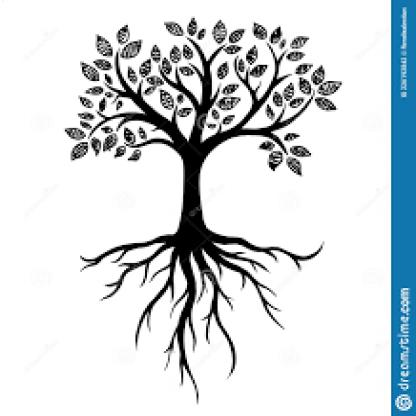root_only: (80, 223, 324, 403)
trunk_straight: (174, 165, 212, 228)
